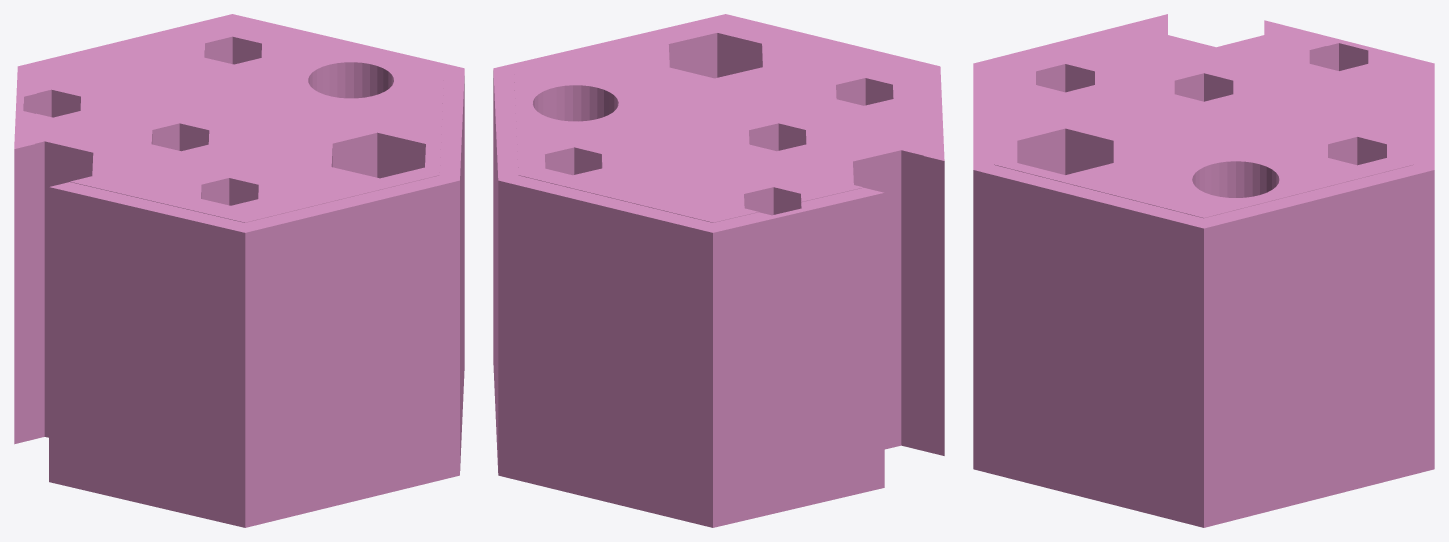
The model's file is Big_platform_holes.fbx.
3 views of the same model, side by side, from view 1: azimuth 30°, elevation 25°; view 2: azimuth 150°, elevation 25°; view 3: azimuth 270°, elevation 25° (orthographic).
Parts seen in each view (by area): view 1: Cube.002; view 2: Cube.002; view 3: Cube.002.
Boxes of the visible parts, <box> form: Cube.002: <box>14,14,464,527</box>; Cube.002: <box>493,14,944,527</box>; Cube.002: <box>973,14,1434,527</box>.
Bounding box in the file's own units: 307 × 200 × 279.
